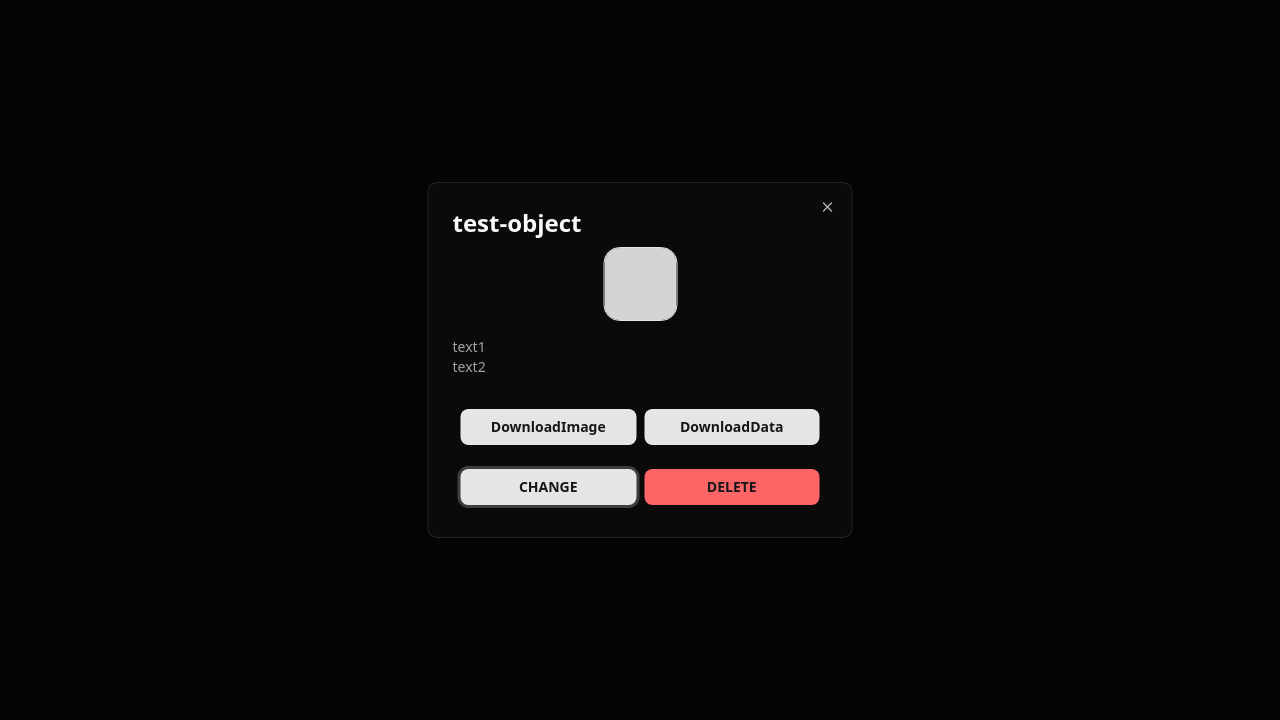
Scenario: UserListDialog › Should show visibility checkbox and name field when clicked on change
The image size is (1280, 720).
What coordinates should you click on to do the following:
click the button "CHANGE"
I would click on:
 (548, 487)
Its box is [460,469,636,505].
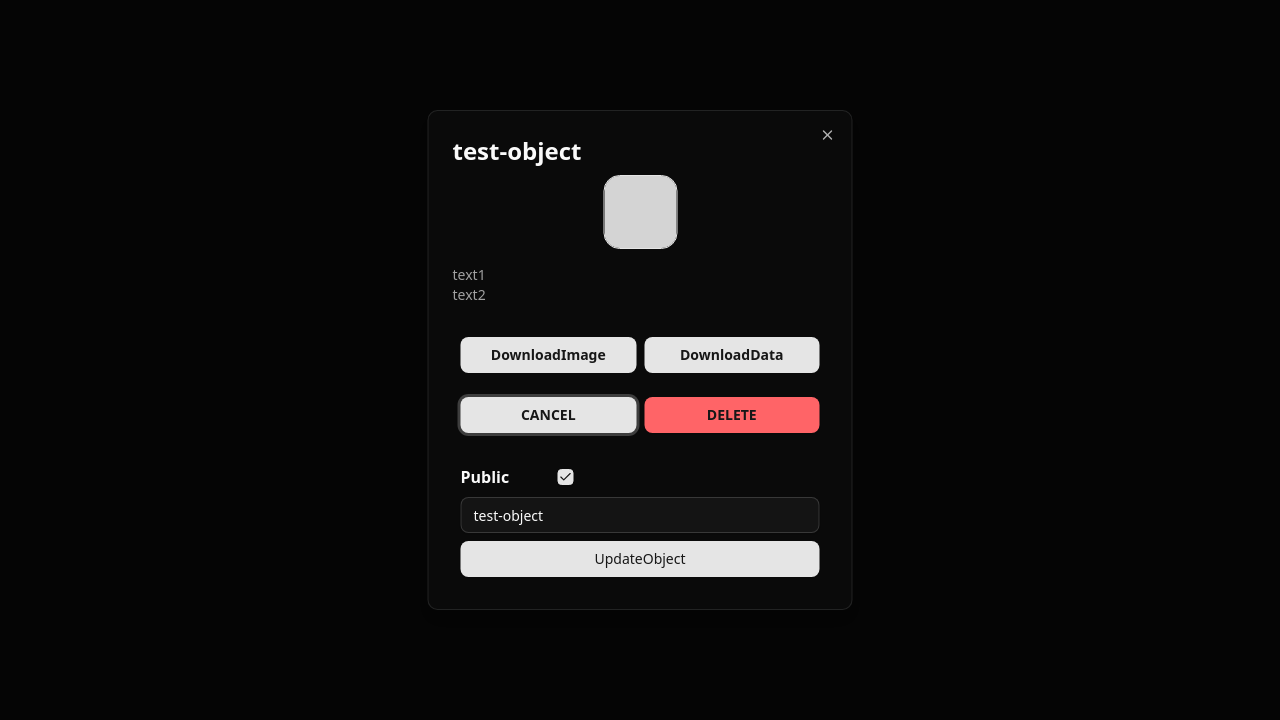
Expected: the checkbox is shown, [557,469,573,485]
Expected: the field is shown, [460,497,820,533]
